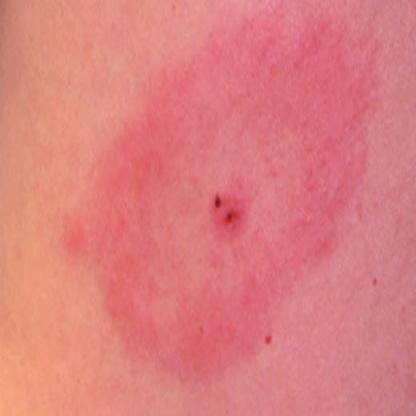Tick: (55, 0, 387, 383)
